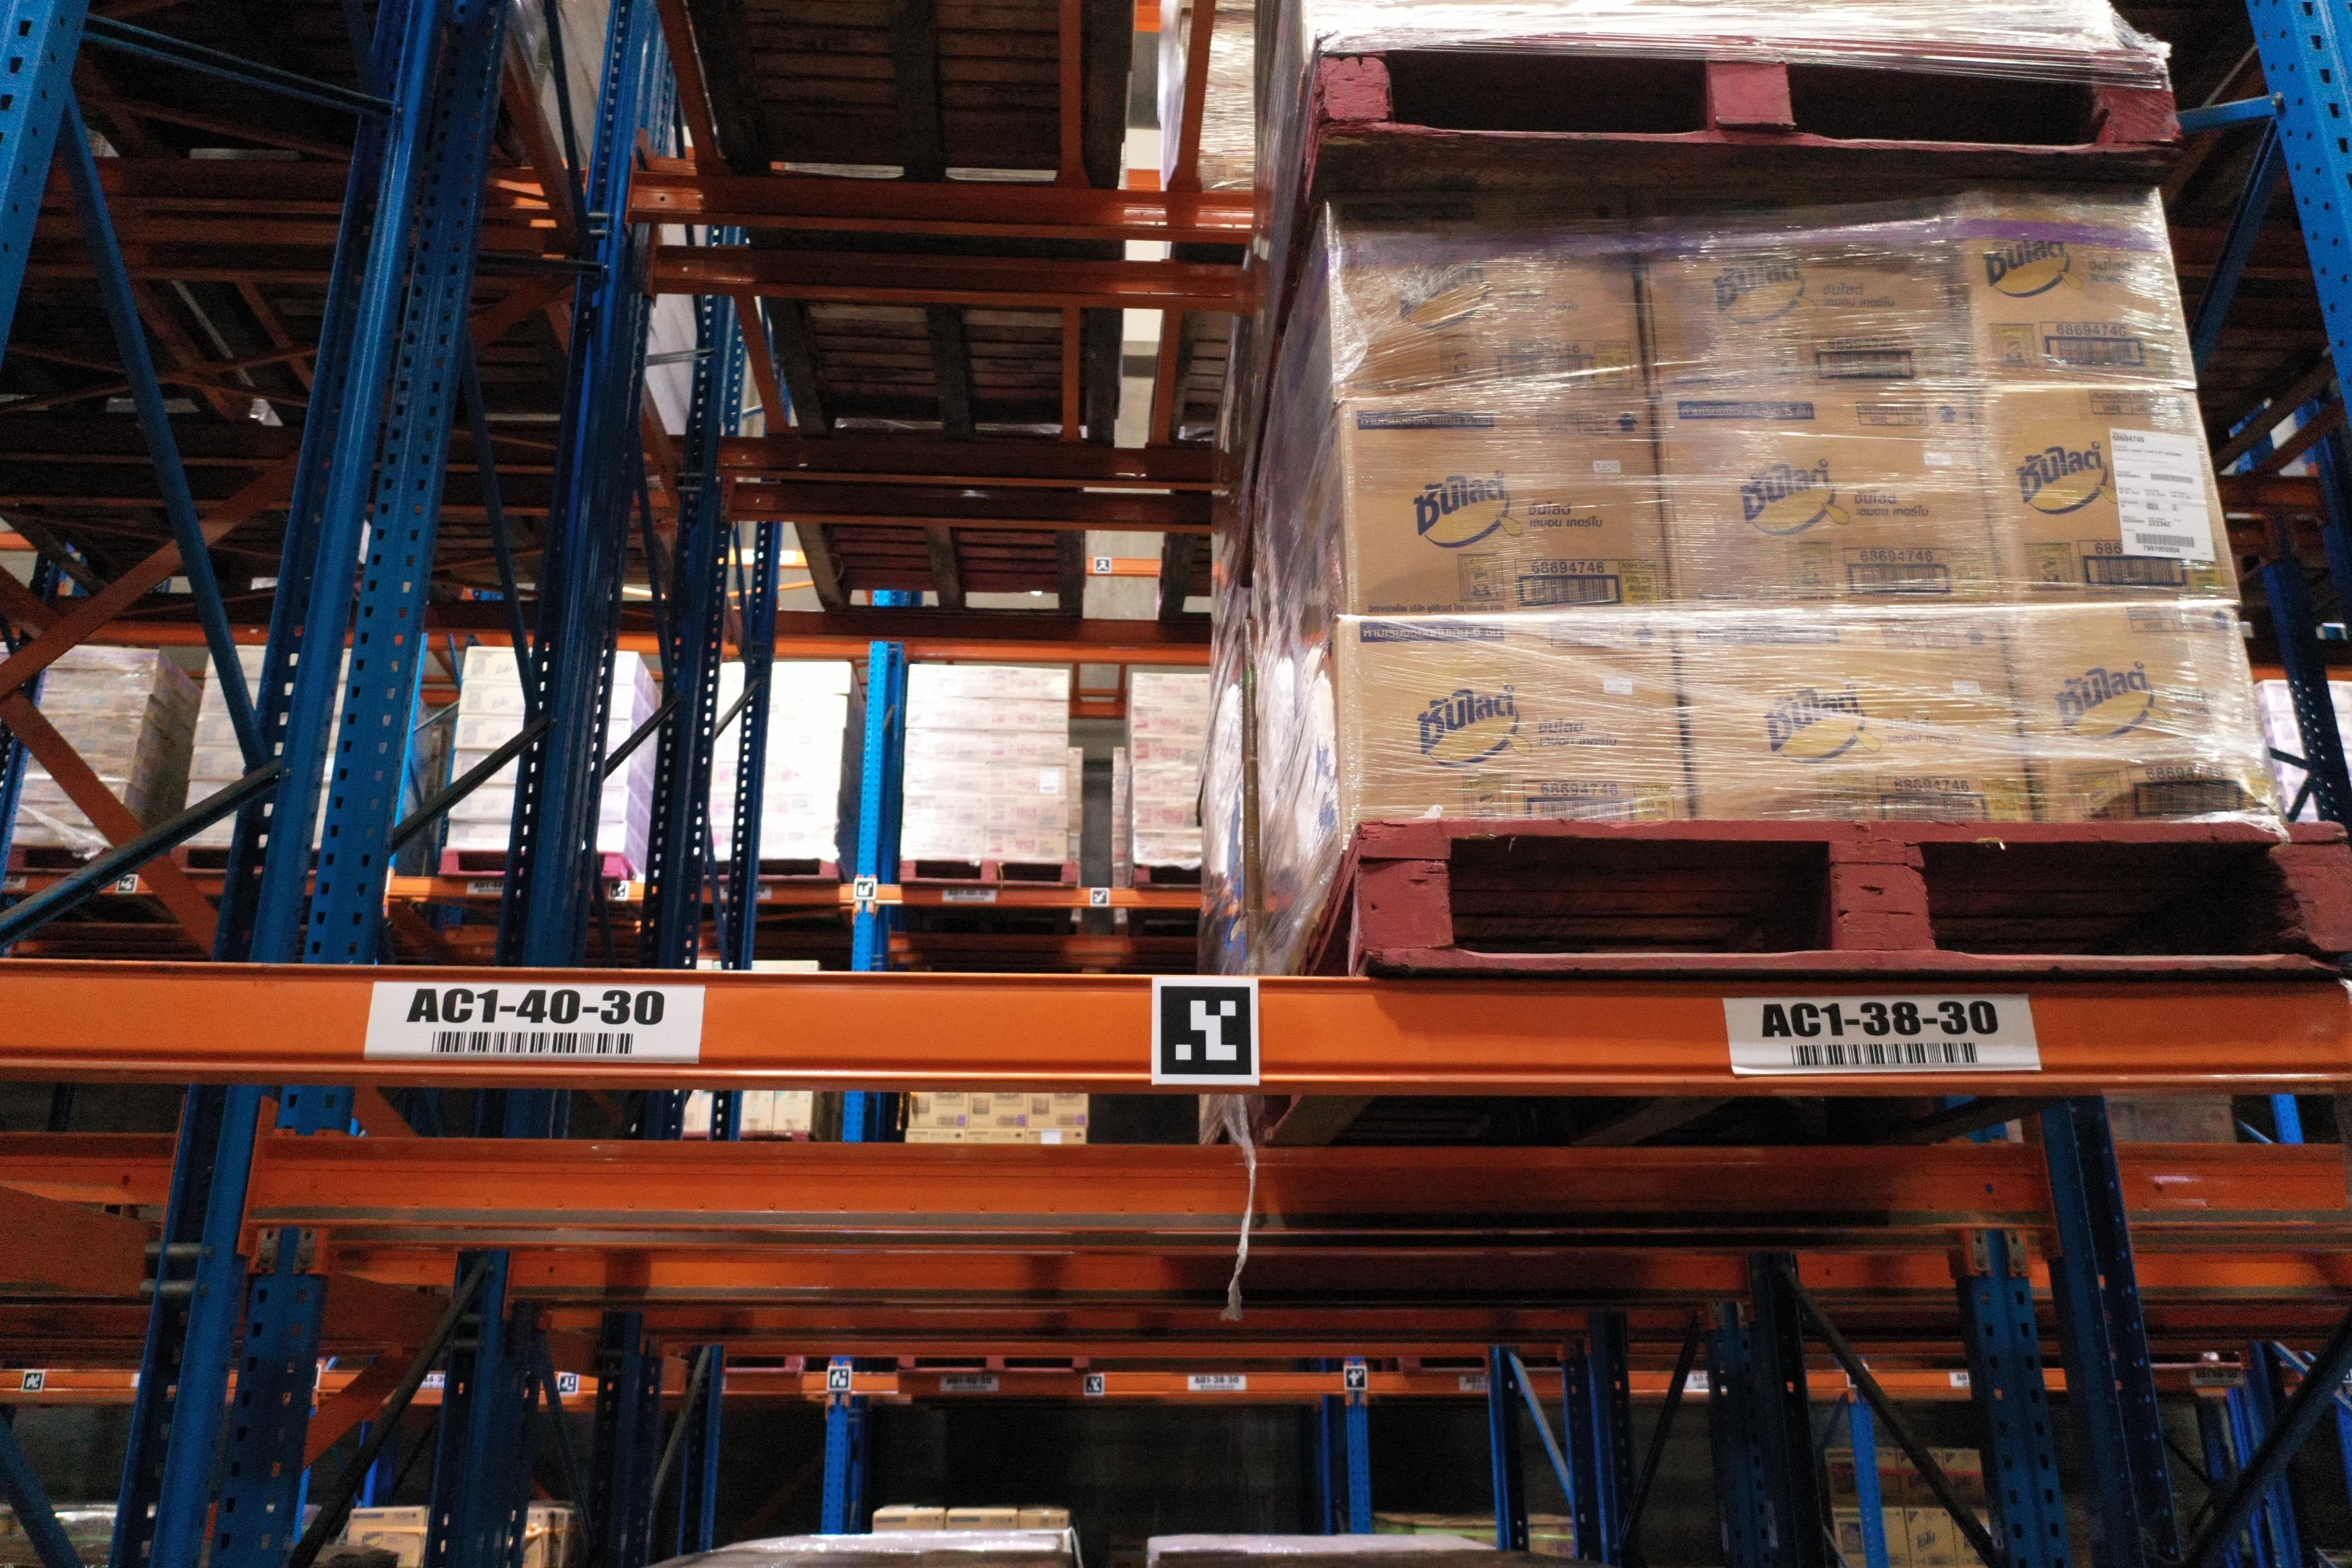-: (1340, 605, 1696, 831), (1675, 605, 2032, 821), (1650, 392, 1998, 611), (1342, 399, 1669, 614), (1638, 199, 1969, 402), (1328, 198, 1648, 401), (2000, 598, 2278, 824), (1970, 381, 2240, 605), (1946, 184, 2194, 388)
